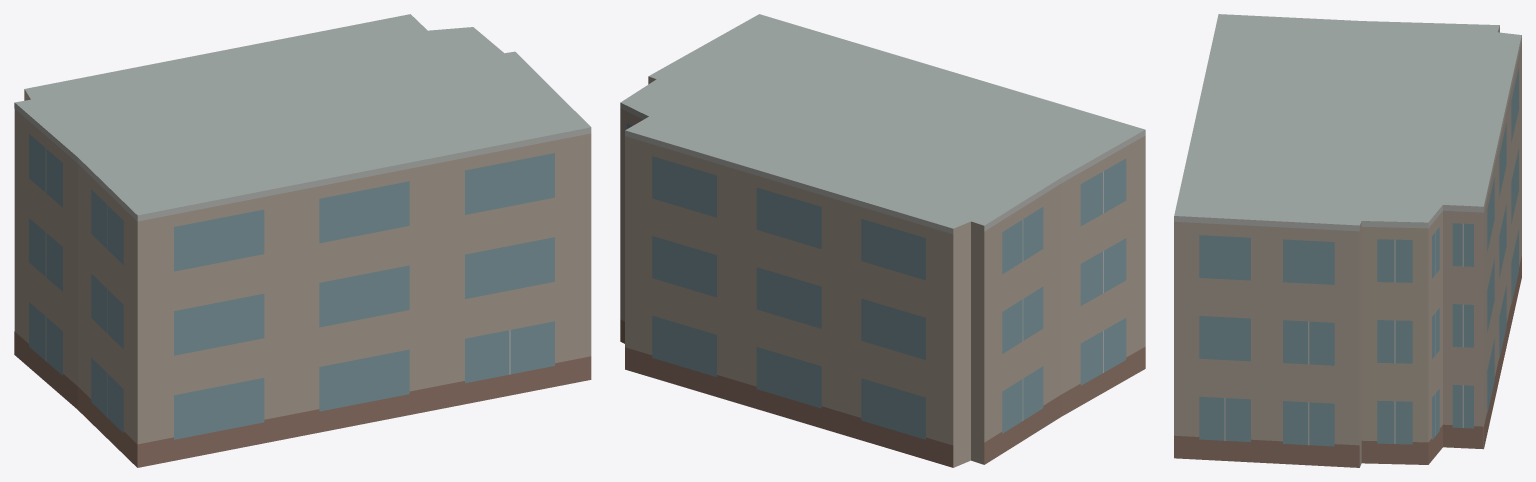
File: survey-upis-32497519.glb
3 views of the same model, side by side, from view 1: azimuth 30°, elevation 25°; view 2: azimuth 150°, elevation 25°; view 3: azimuth 270°, elevation 25° (orthographic). The views are drawn at different scales.
Visible parts, largest first — view 1: survey-upis-32497519.tmp; view 2: survey-upis-32497519.tmp; view 3: survey-upis-32497519.tmp.
Part boxes in pixels (x1,y1,x2,y2): survey-upis-32497519.tmp: (14, 14, 591, 467); survey-upis-32497519.tmp: (620, 14, 1145, 467); survey-upis-32497519.tmp: (1174, 14, 1521, 467).
Size of the model in its own units: 18.91 by 10.1 by 13.14.
